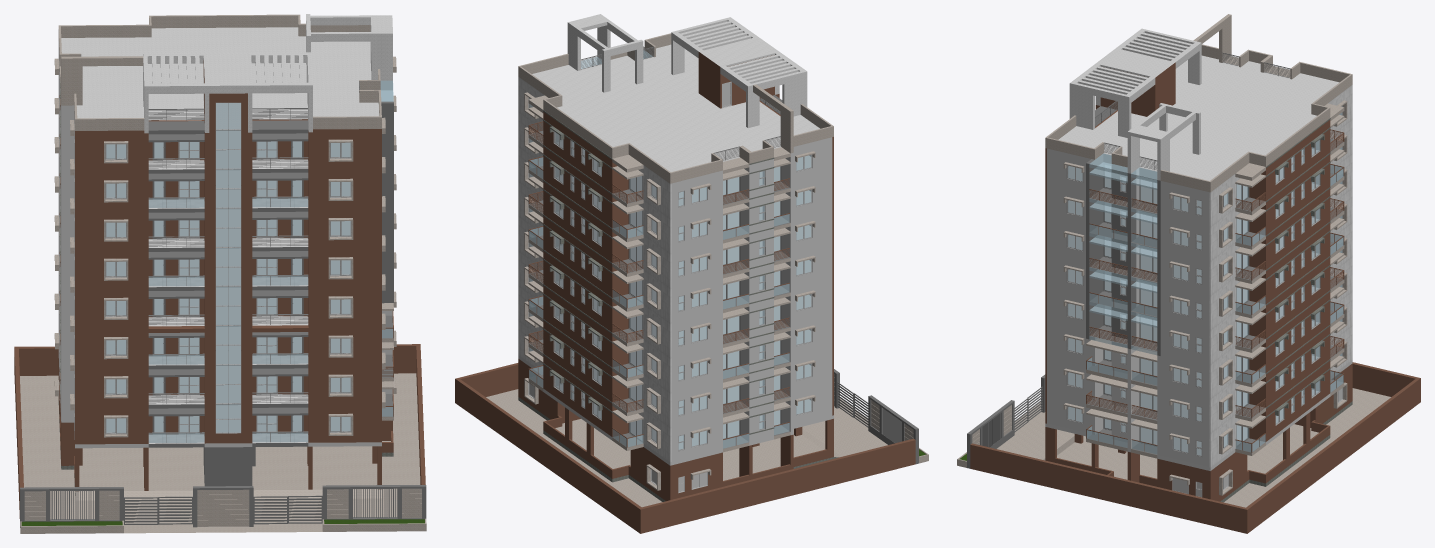
The model's file is predio.glb.
3 views of the same model, side by side, from view 1: azimuth 30°, elevation 25°; view 2: azimuth 150°, elevation 25°; view 3: azimuth 270°, elevation 25° (orthographic). The views are drawn at different scales.
Visible parts, largest first — view 1: AB17_OBJ_01_1, AB17_OBJ_15_15, AB17_OBJ_13_13, AB17_OBJ_19_19, AB17_OBJ_09_9, AB17_OBJ_05_5, AB17_OBJ_07_7, AB17_OBJ_08_8, AB17_OBJ_03_3, AB17_OBJ_06_6, AB17_OBJ_10_10, AB17_OBJ_12_12 (+3 smaller); view 2: AB17_OBJ_15_15, AB17_OBJ_03_3, AB17_OBJ_04_4, AB17_OBJ_11_11, AB17_OBJ_12_12, AB17_OBJ_09_9, AB17_OBJ_08_8, AB17_OBJ_05_5, AB17_OBJ_13_13, AB17_OBJ_06_6, AB17_OBJ_10_10, AB17_OBJ_07_7 (+2 smaller); view 3: AB17_OBJ_15_15, AB17_OBJ_02_2, AB17_OBJ_04_4, AB17_OBJ_11_11, AB17_OBJ_12_12, AB17_OBJ_09_9, AB17_OBJ_05_5, AB17_OBJ_08_8, AB17_OBJ_13_13, AB17_OBJ_06_6, AB17_OBJ_10_10, AB17_OBJ_07_7 (+2 smaller).
Boxes of the visible parts, left/top/right/bottom form: AB17_OBJ_01_1: left=75, top=119, right=381, bottom=444; AB17_OBJ_15_15: left=58, top=14, right=392, bottom=133; AB17_OBJ_13_13: left=20, top=373, right=420, bottom=533; AB17_OBJ_19_19: left=148, top=120, right=308, bottom=447; AB17_OBJ_09_9: left=59, top=75, right=351, bottom=434; AB17_OBJ_05_5: left=58, top=131, right=381, bottom=448; AB17_OBJ_07_7: left=20, top=485, right=426, bottom=533; AB17_OBJ_08_8: left=54, top=56, right=396, bottom=437; AB17_OBJ_03_3: left=58, top=41, right=74, bottom=435; AB17_OBJ_06_6: left=54, top=358, right=396, bottom=491; AB17_OBJ_10_10: left=152, top=141, right=303, bottom=434; AB17_OBJ_12_12: left=14, top=344, right=425, bottom=518; AB17_OBJ_15_15: left=518, top=14, right=833, bottom=183; AB17_OBJ_03_3: left=672, top=137, right=832, bottom=461; AB17_OBJ_04_4: left=518, top=77, right=671, bottom=462; AB17_OBJ_11_11: left=528, top=50, right=790, bottom=452; AB17_OBJ_12_12: left=455, top=363, right=915, bottom=533; AB17_OBJ_09_9: left=528, top=97, right=812, bottom=451; AB17_OBJ_08_8: left=524, top=92, right=815, bottom=448; AB17_OBJ_05_5: left=518, top=140, right=833, bottom=465; AB17_OBJ_13_13: left=486, top=389, right=887, bottom=507; AB17_OBJ_06_6: left=518, top=359, right=833, bottom=501; AB17_OBJ_10_10: left=628, top=166, right=781, bottom=442; AB17_OBJ_07_7: left=834, top=369, right=928, bottom=464; AB17_OBJ_15_15: left=1045, top=14, right=1352, bottom=192; AB17_OBJ_02_2: left=1047, top=148, right=1208, bottom=467; AB17_OBJ_04_4: left=1209, top=85, right=1352, bottom=467; AB17_OBJ_11_11: left=1086, top=56, right=1344, bottom=458; AB17_OBJ_12_12: left=970, top=362, right=1420, bottom=533; AB17_OBJ_09_9: left=1066, top=105, right=1343, bottom=456; AB17_OBJ_05_5: left=1045, top=149, right=1352, bottom=470; AB17_OBJ_08_8: left=1063, top=100, right=1347, bottom=454; AB17_OBJ_13_13: left=997, top=388, right=1390, bottom=507; AB17_OBJ_06_6: left=1045, top=363, right=1352, bottom=501; AB17_OBJ_10_10: left=1103, top=171, right=1249, bottom=447; AB17_OBJ_07_7: left=957, top=374, right=1045, bottom=468.
Size of the model in its own units: 0.9501 by 0.8001 by 0.9309.
10 materials, 8 textured.
